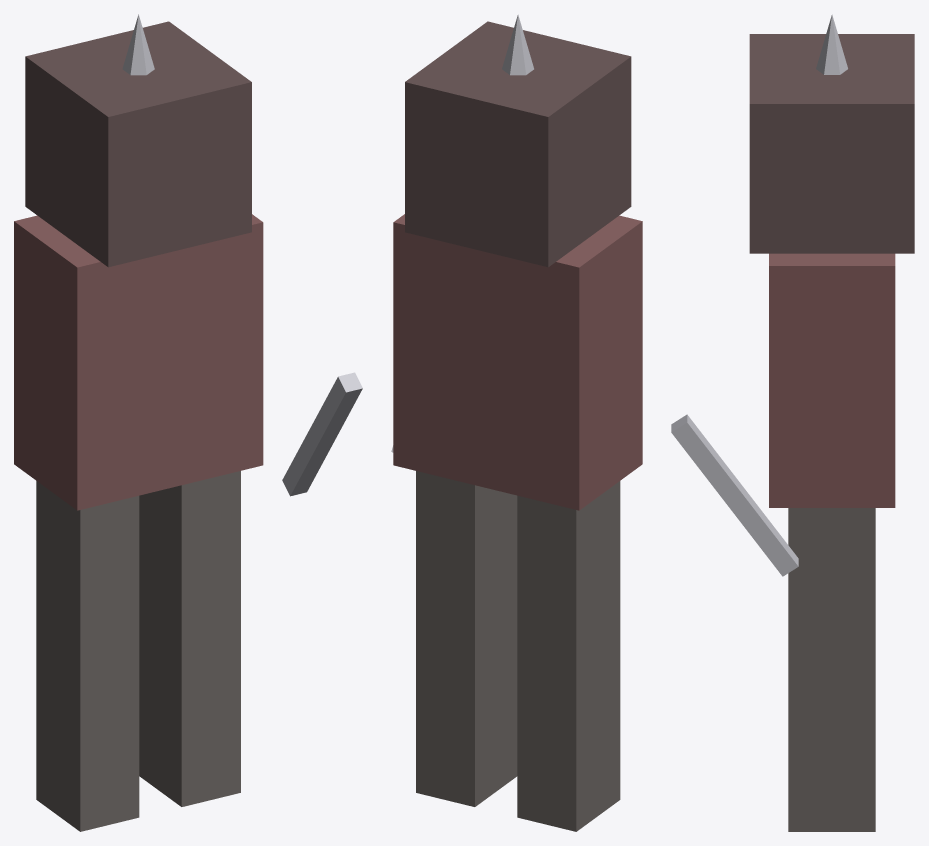
Rendered from bandit.glb.
3 views of the same model, side by side, from view 1: azimuth 30°, elevation 25°; view 2: azimuth 150°, elevation 25°; view 3: azimuth 270°, elevation 25° (orthographic).
Parts seen in each view (by area): view 1: Cube, Cube.001, Cube.002, Cube.003, Cube.004, Cone; view 2: Cube, Cube.001, Cube.002, Cube.003, Cone; view 3: Cube.001, Cube, Cube.003, Cube.004, Cone.
Boxes of the visible parts, x1,y1,x2,y2 form: Cube: (14, 214, 263, 510); Cube.001: (25, 21, 251, 267); Cube.002: (36, 481, 139, 831); Cube.003: (139, 471, 240, 806); Cube.004: (282, 372, 362, 496); Cone: (122, 14, 154, 75); Cube: (393, 214, 642, 510); Cube.001: (405, 21, 631, 267); Cube.002: (517, 481, 620, 831); Cube.003: (416, 471, 517, 806); Cone: (502, 14, 533, 75); Cube.001: (749, 34, 914, 253); Cube: (769, 253, 895, 507); Cube.003: (788, 508, 875, 831); Cube.004: (671, 414, 798, 576); Cone: (816, 14, 847, 74).
Bounding box in the file's own units: 0.56 × 1.77 × 0.5011.
